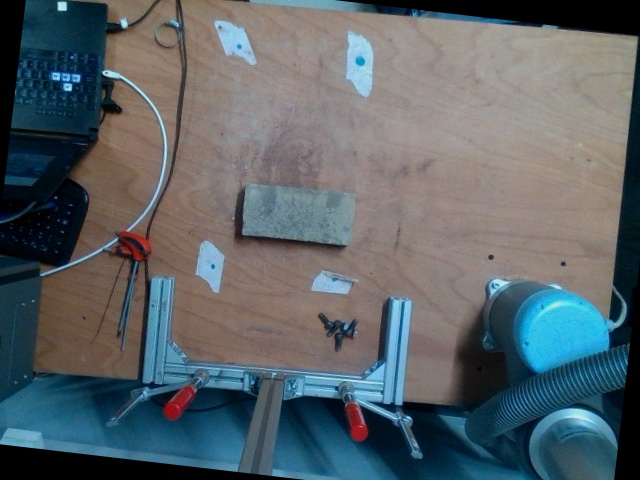brick: (240, 182, 354, 244)
